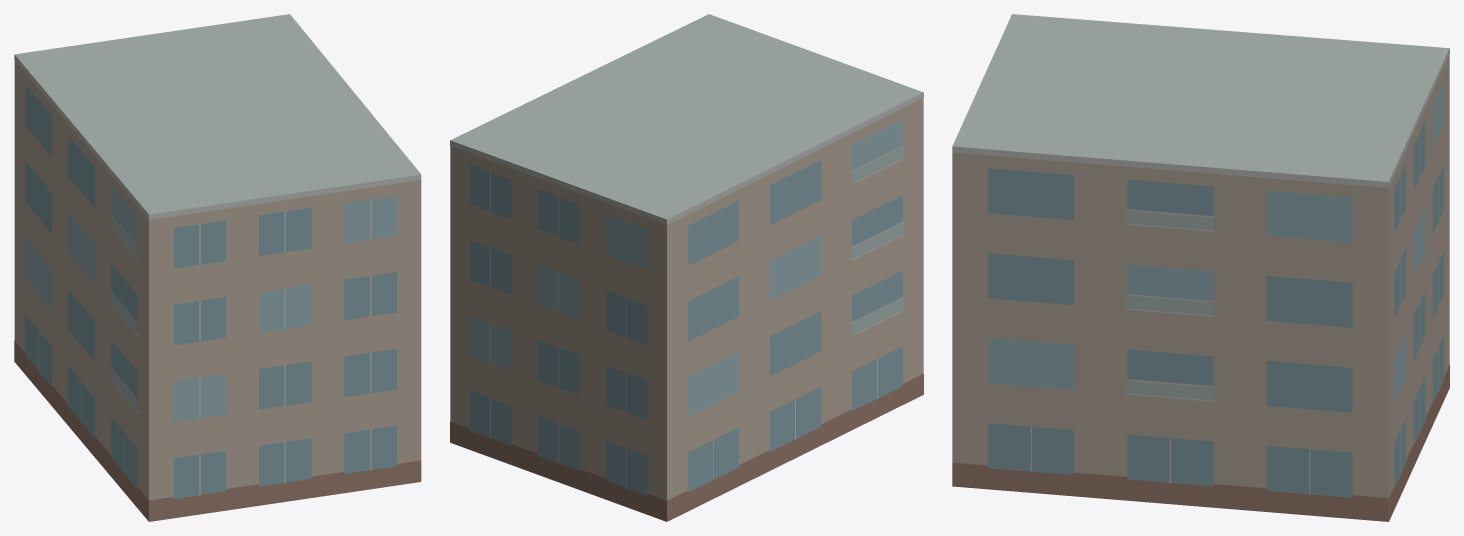
File: survey-upis-32681694.glb
3 views of the same model, side by side, from view 1: azimuth 30°, elevation 25°; view 2: azimuth 150°, elevation 25°; view 3: azimuth 270°, elevation 25° (orthographic). The views are drawn at different scales.
Visible parts, largest first — view 1: survey-upis-32681694.tmp; view 2: survey-upis-32681694.tmp; view 3: survey-upis-32681694.tmp.
Boxes of the visible parts, x1,y1,x2,y2 form: survey-upis-32681694.tmp: (14, 14, 421, 521); survey-upis-32681694.tmp: (450, 14, 923, 521); survey-upis-32681694.tmp: (952, 14, 1449, 521).
Size of the model in its own units: 14.43 by 13.61 by 18.06.
